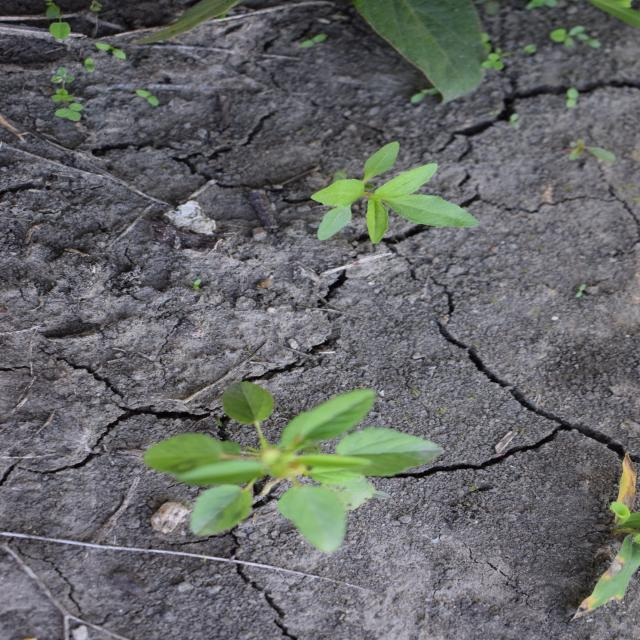Eclipta: (308, 140, 482, 246)
PricklySida: (139, 378, 448, 556)
